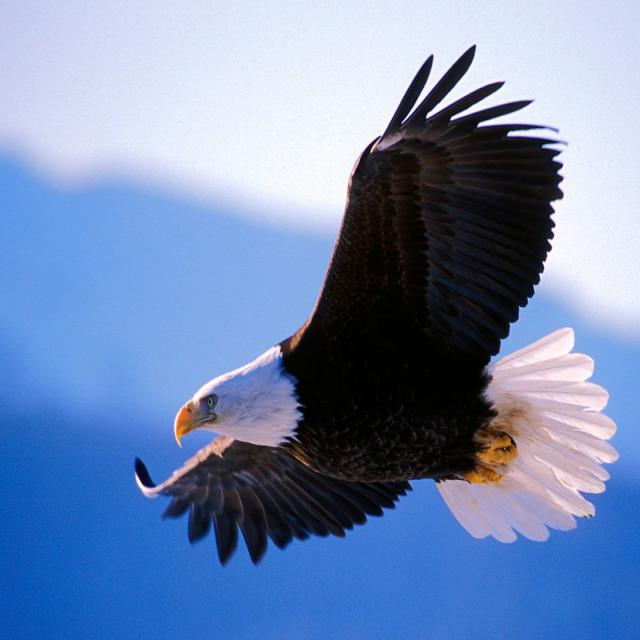Eagle: (137, 67, 615, 564)
